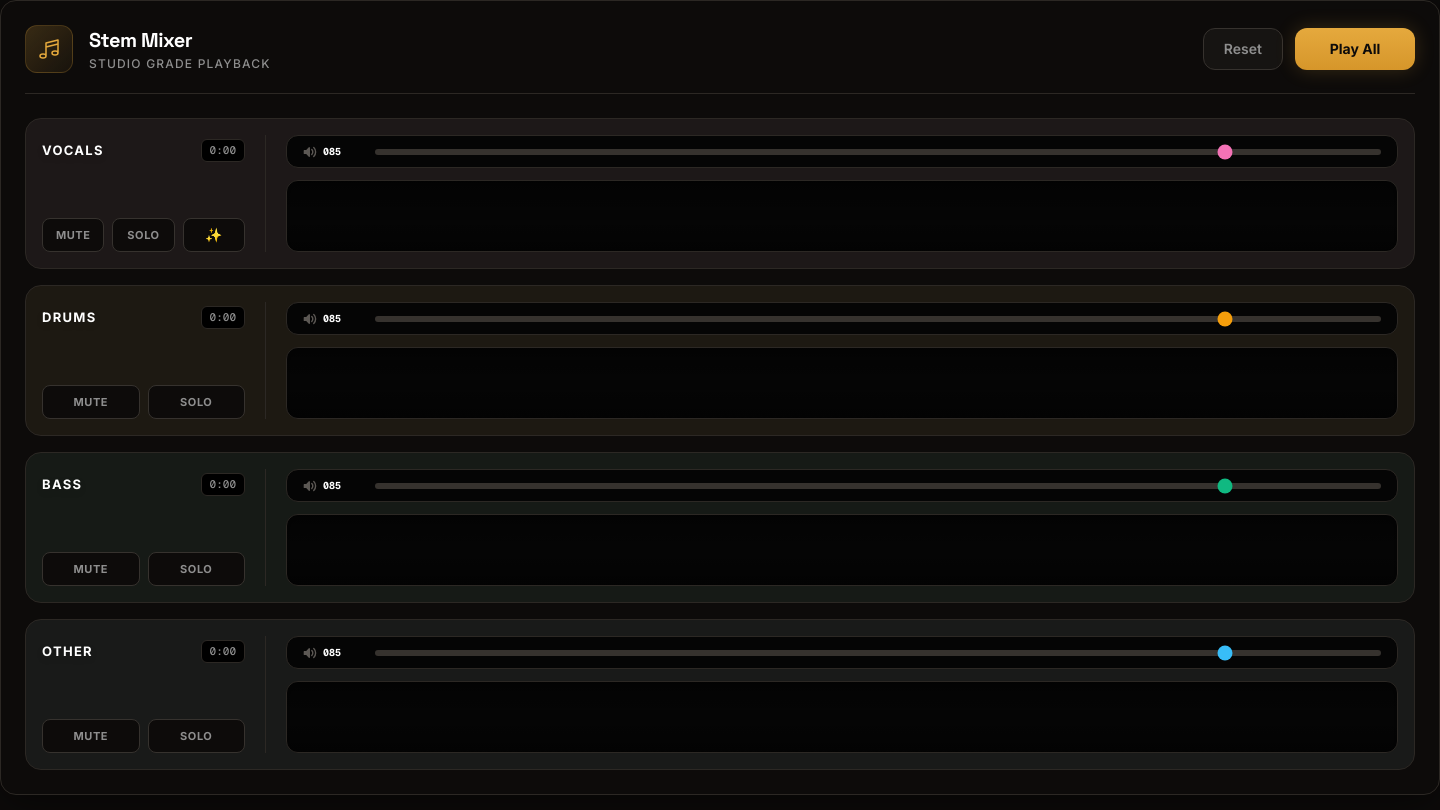
AdvancedMultiTrackPlayer (TU-6) › shows generic error on network failure and does not enable polish (M6)
Click the button with test id "polish-toggle": point(214, 235) [183,218,245,252]
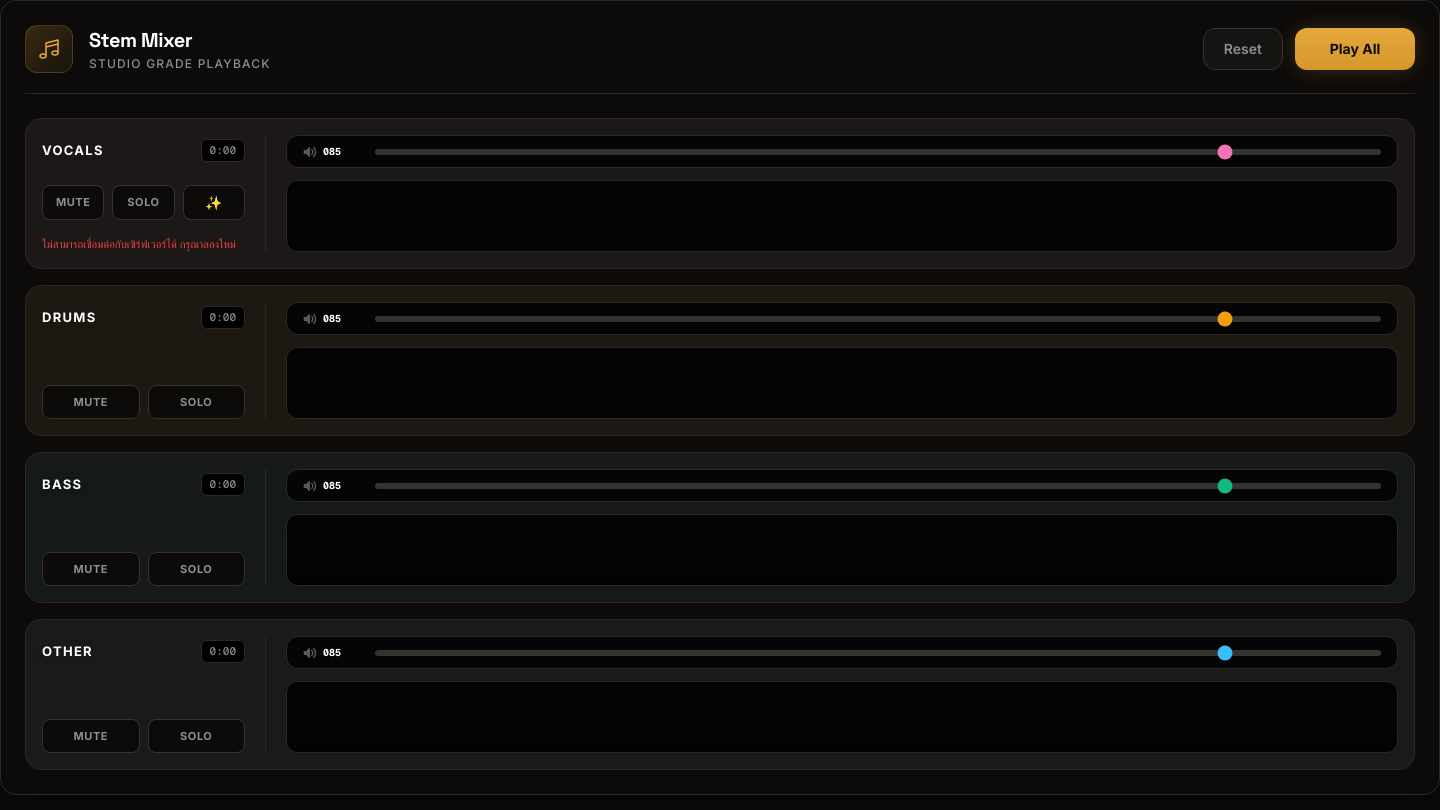
Result: the text with test id "polish-error" shows "ไม่สามารถเชื่อมต่อกับเซิร์ฟเวอร์ได้" at [42,236,236,250]
